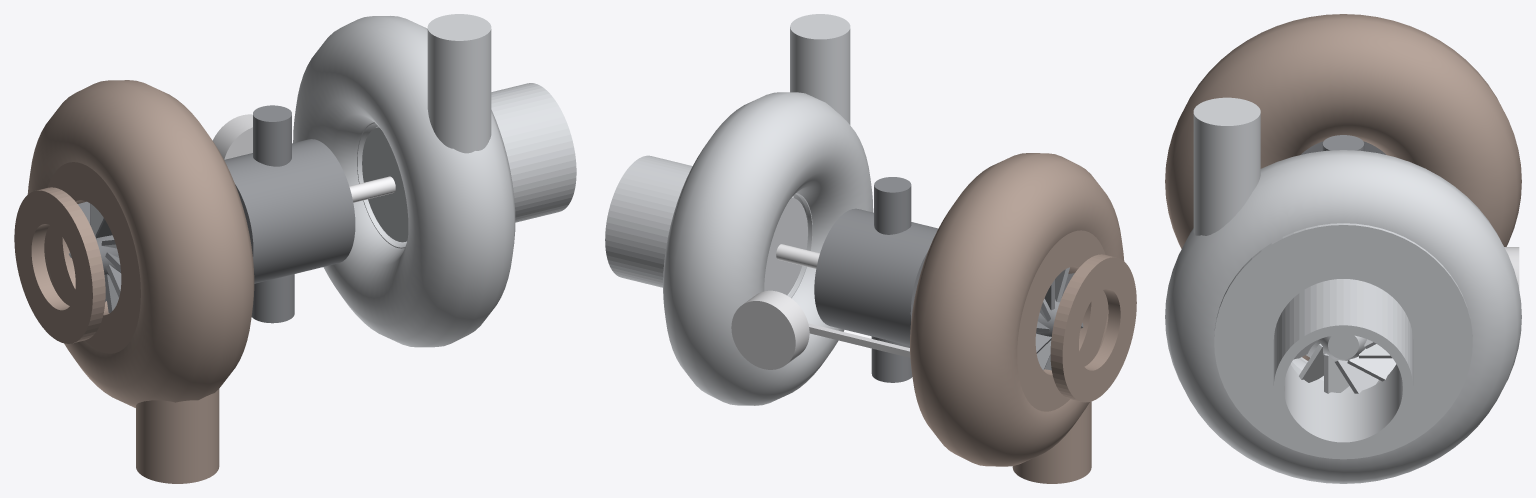
Rendered from turbocompresor.glb.
The picture shows the model from 3 angles, left to right: view 1: azimuth 30°, elevation 25°; view 2: azimuth 150°, elevation 25°; view 3: azimuth 270°, elevation 25°; orthographic projection. The views are drawn at different scales.
Parts seen in each view (by area): view 1: carcasa_turbina, carcasa_compresor, cuerpo_central, rueda_compresor, rueda_turbina, actuador_wastegate; view 2: carcasa_turbina, carcasa_compresor, cuerpo_central, actuador_wastegate, rueda_compresor, rueda_turbina; view 3: carcasa_compresor, carcasa_turbina, rueda_compresor, cuerpo_central.
Part boxes in pixels (x1,y1,x2,y2): carcasa_turbina: (14, 80, 254, 483); carcasa_compresor: (293, 14, 576, 347); cuerpo_central: (224, 105, 355, 323); rueda_compresor: (362, 126, 408, 242); rueda_turbina: (69, 176, 395, 312); actuador_wastegate: (212, 114, 252, 159); carcasa_turbina: (910, 153, 1136, 483); carcasa_compresor: (605, 14, 873, 405); cuerpo_central: (814, 177, 938, 382); actuador_wastegate: (731, 290, 910, 369); rueda_compresor: (764, 196, 807, 295); rueda_turbina: (776, 244, 1083, 370); carcasa_compresor: (1165, 97, 1521, 483); carcasa_turbina: (1165, 14, 1521, 360); rueda_compresor: (1293, 334, 1395, 393); cuerpo_central: (1322, 135, 1364, 150).
Size of the model in its own units: 2.3 by 1.75 by 1.38.
